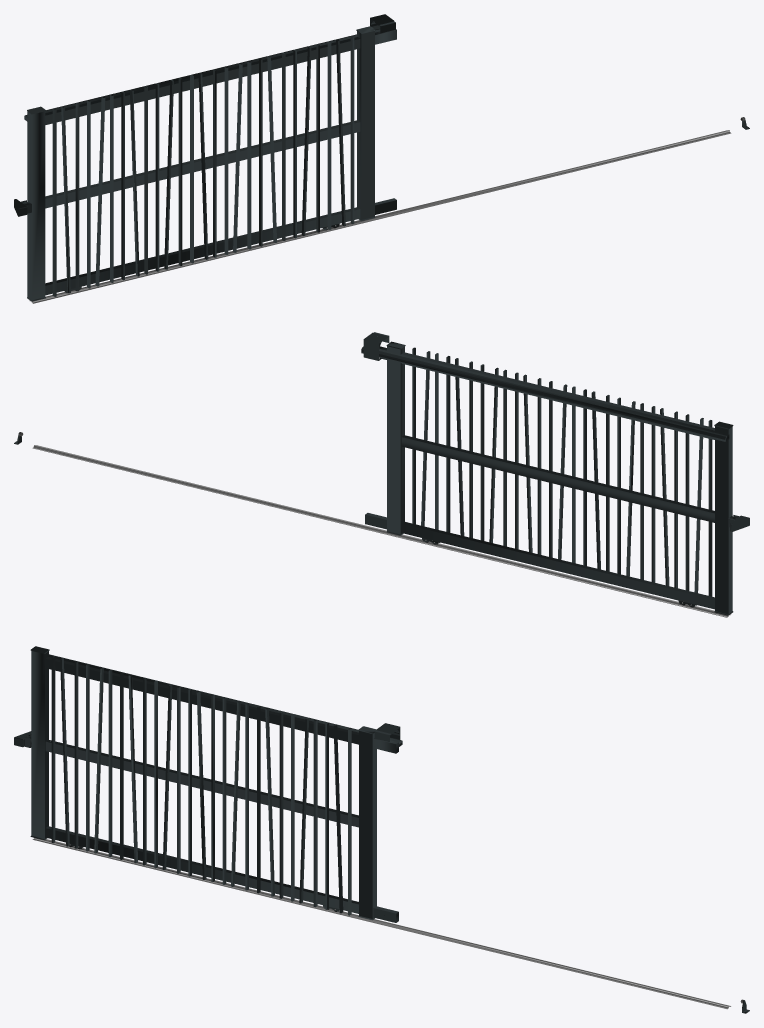
The picture shows the model from 3 angles, top to bottom: view 1: azimuth 30°, elevation 25°; view 2: azimuth 150°, elevation 25°; view 3: azimuth 330°, elevation 25°; orthographic projection.
Parts seen in each view (by area): view 1: Folha_1, texas; view 2: Folha_1, texas; view 3: Folha_1, texas.
Boxes of the visible parts, x1,y1,x2,y2 form: Folha_1: (24,26,396,301); texas: (14,14,749,303); Folha_1: (361,341,735,615); texas: (14,332,749,617); Folha_1: (28,646,402,922); texas: (14,723,749,1013).
Size of the model in its own units: 641 by 163 by 16.91.
Materials: 1 (1 with a texture image).
